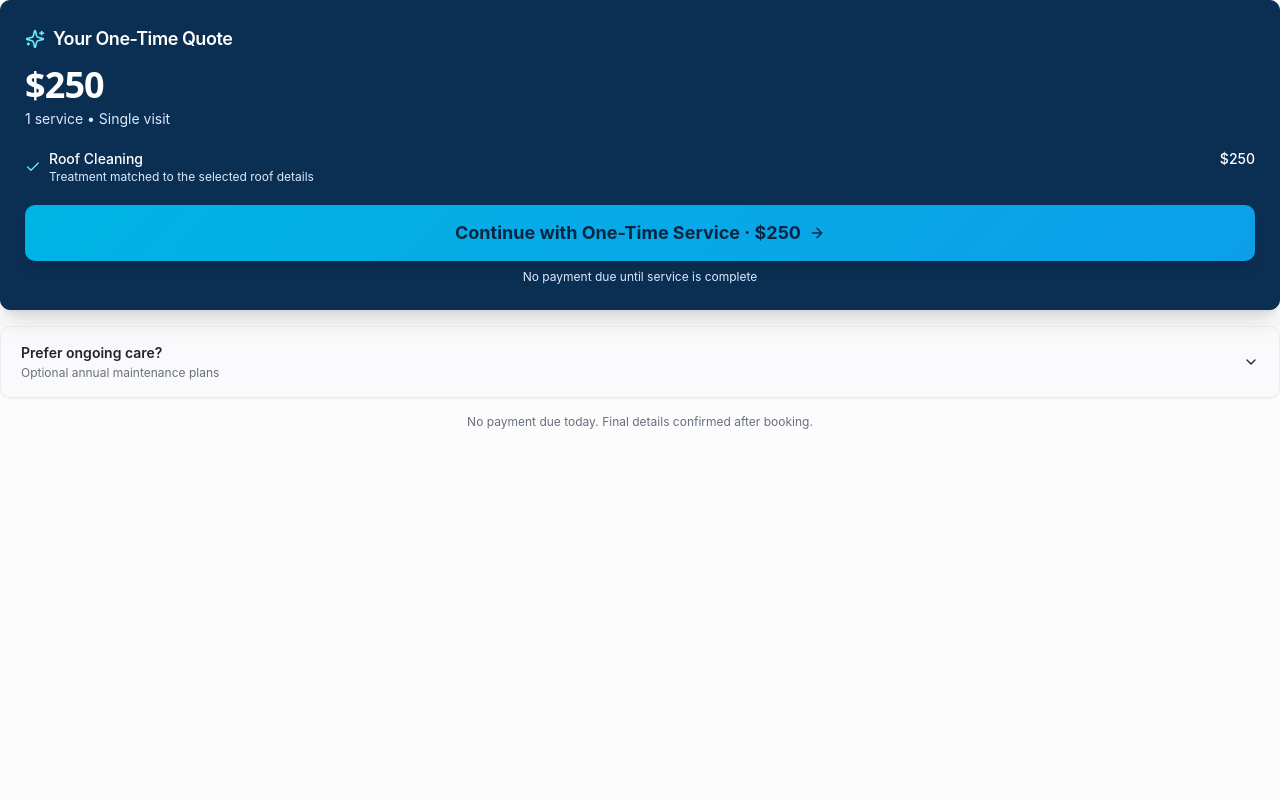
Scenario: PlanUpsellCard — fail-closed plan behavior › renders the real plan summary and enables the CTA when a valid plan is returned
The width and height of the screenshot is (1280, 800).
Later steps or results of the test are not shown.
Step 1. Click the button with test id "plans-toggle" → x=92, y=352, box [1,327,1279,397]
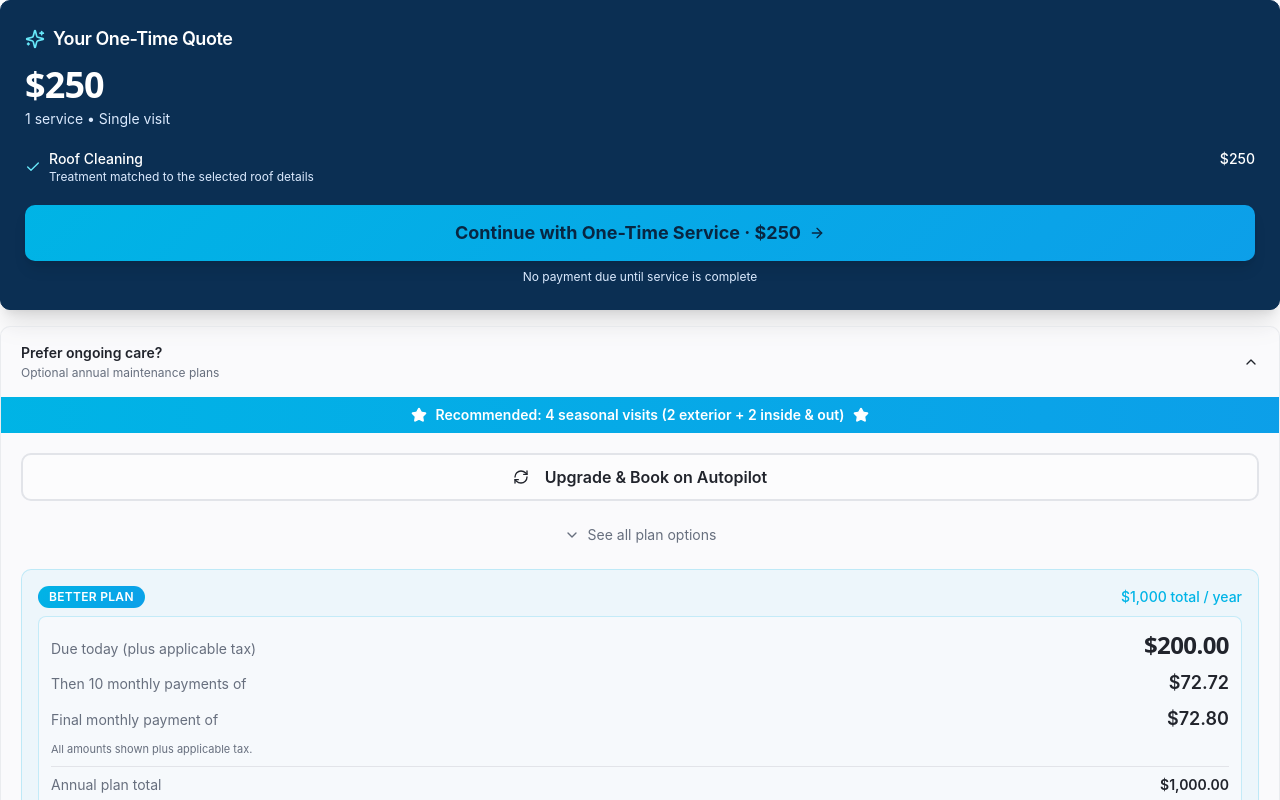
expect the button with test id "plan-upgrade-cta" is enabled: met, box [21,453,1259,501]
